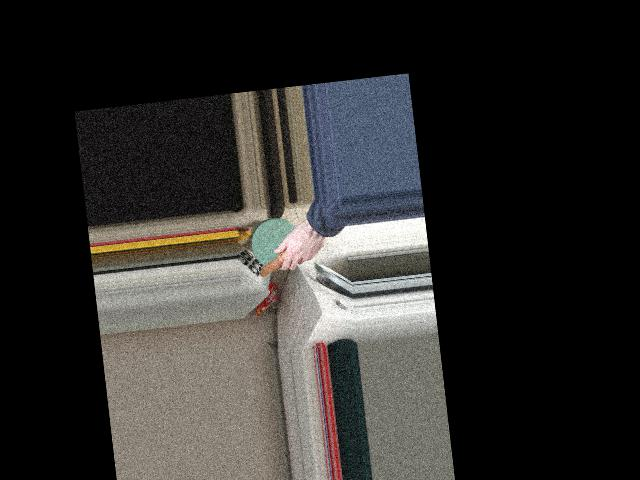sweet_potato: (257, 233, 312, 277)
